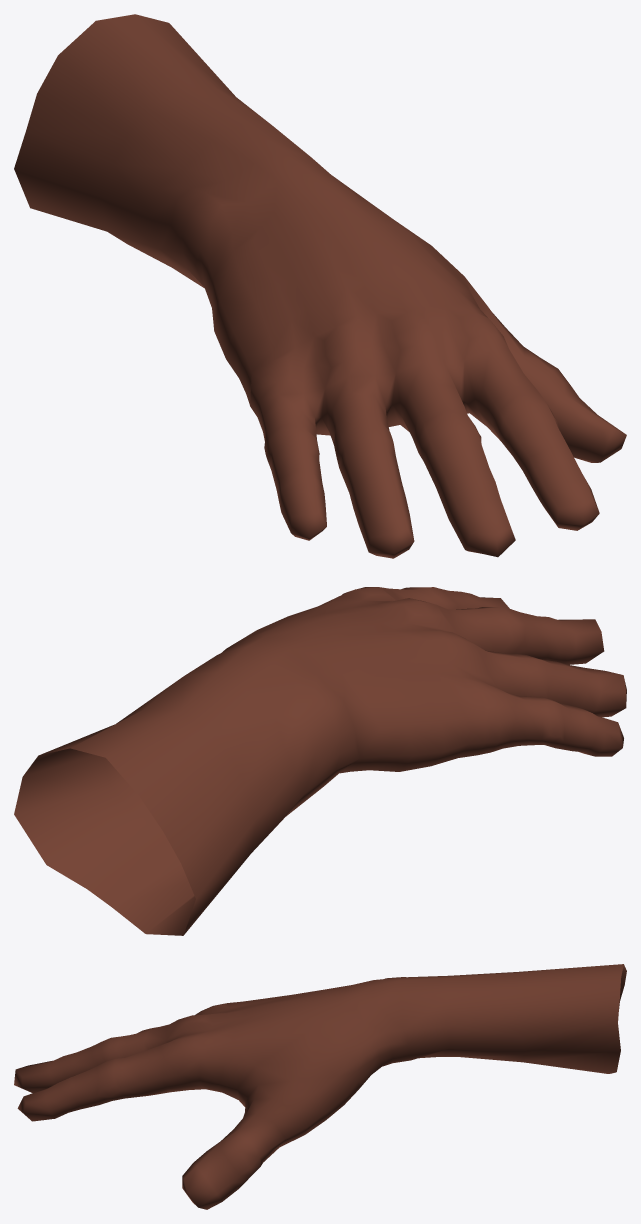
The model's file is 2_1_HandSmoothRightBack.obj.
3 views of the same model, one above another, from view 1: azimuth 30°, elevation 25°; view 2: azimuth 150°, elevation 25°; view 3: azimuth 270°, elevation 25° (orthographic). The views are drawn at different scales.
Visible parts, largest first — view 1: hand_man_polySurface1; view 2: hand_man_polySurface1; view 3: hand_man_polySurface1.
Part boxes in pixels (bbox=[...]): hand_man_polySurface1: bbox=[14, 14, 626, 558]; hand_man_polySurface1: bbox=[14, 587, 626, 935]; hand_man_polySurface1: bbox=[14, 964, 626, 1209].
Bounding box in the file's own units: 0.0799 × 0.0535 × 0.1653.
